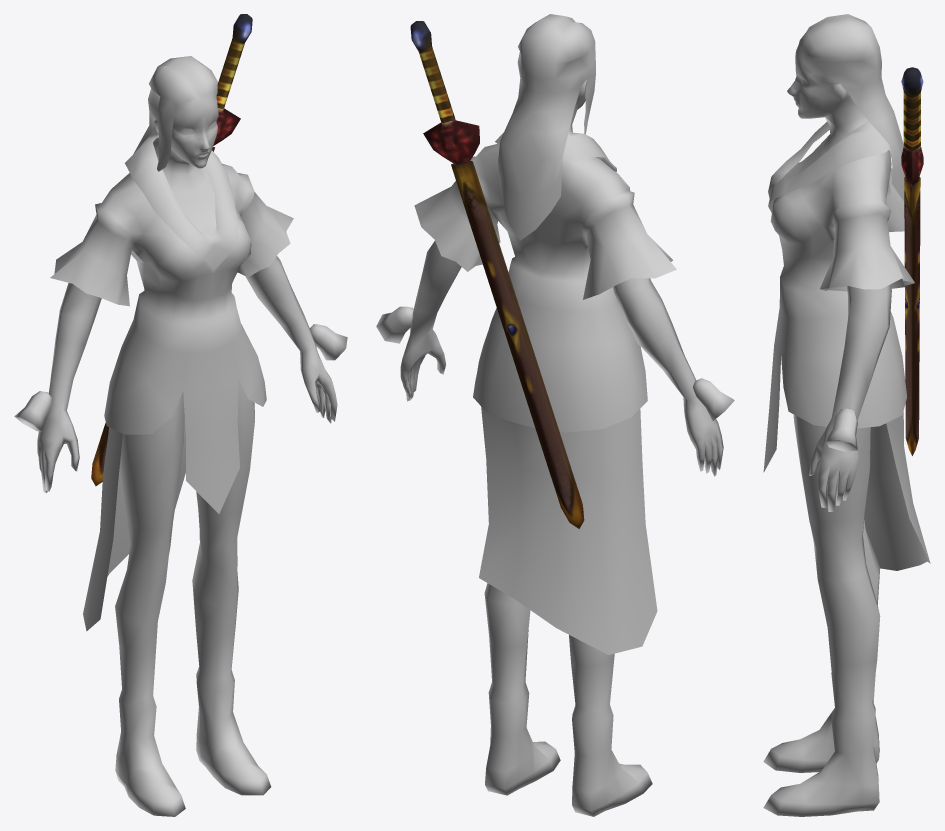
File: 25310001李秋水.FBX
3 views of the same model, side by side, from view 1: azimuth 30°, elevation 25°; view 2: azimuth 150°, elevation 25°; view 3: azimuth 270°, elevation 25° (orthographic). The views are drawn at different scales.
Parts seen in each view (by area): view 1: Object01; view 2: Object01; view 3: Object01.
Boxes of the visible parts, x1=… form: Object01: x1=14, y1=14, x2=347, y2=816; Object01: x1=376, y1=14, x2=734, y2=816; Object01: x1=763, y1=14, x2=930, y2=816.
Size of what is drawn, in the model's own units: 32.99 by 69.12 by 13.67.
